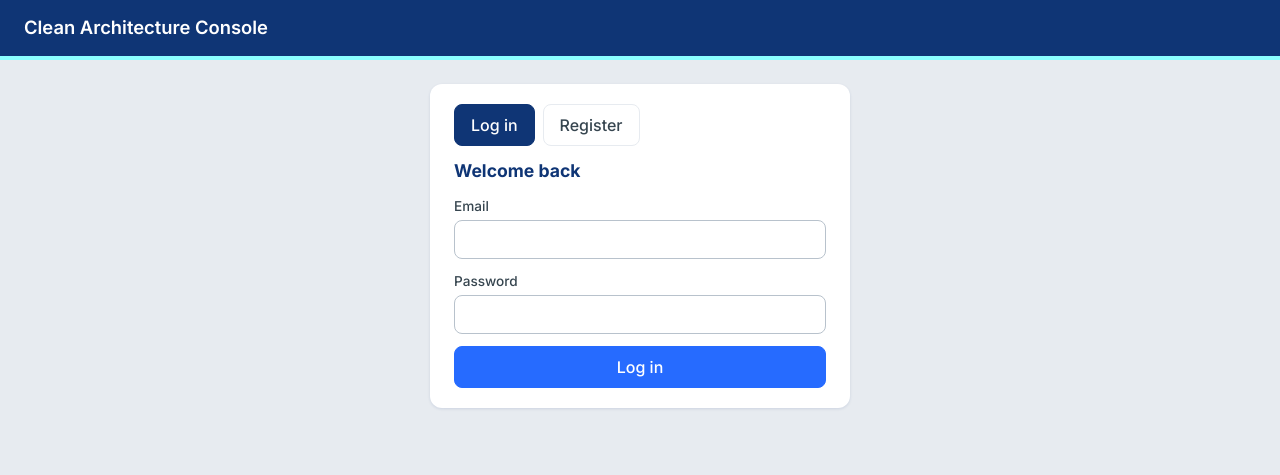
login errors › mc02 wrong password shows the API error
Type "admin@example.com" into the field labelled "Email". click: (640, 240)
box: [454, 220, 826, 259]
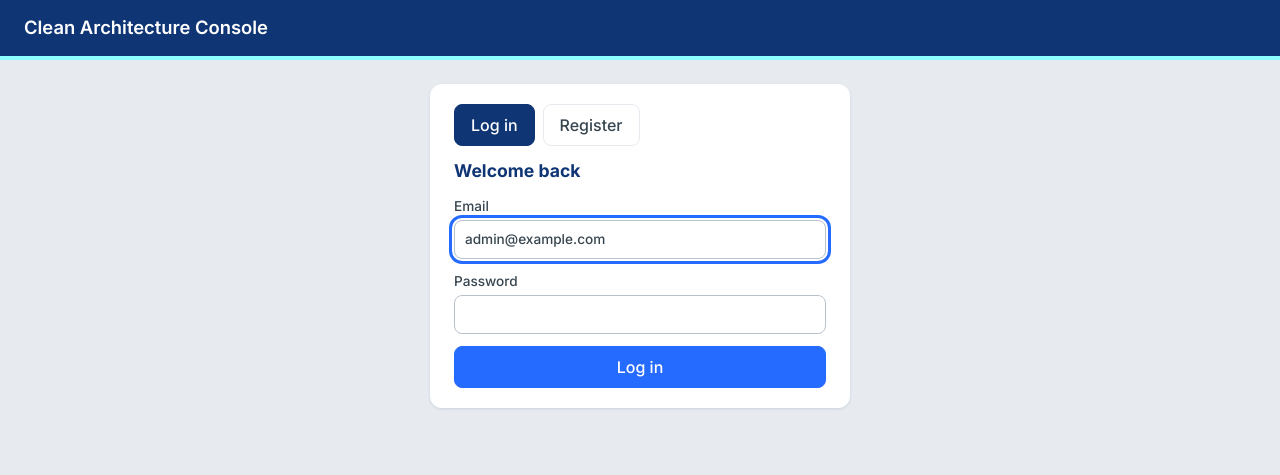
Type "nope" into the password field labelled "Password". click: (640, 314)
box: [454, 295, 826, 334]
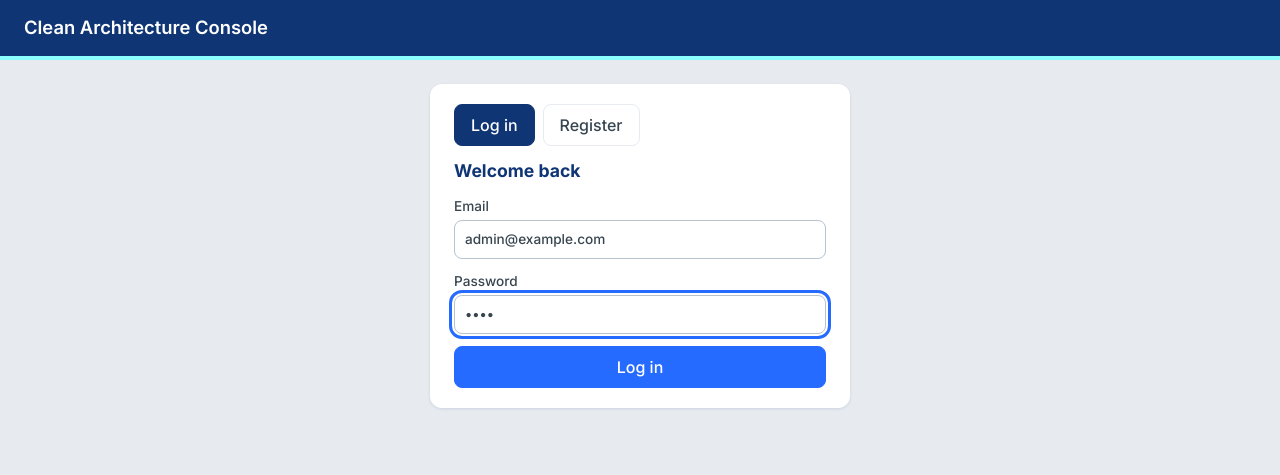
Click the button "Log in". click: click(640, 367)
box: [454, 346, 826, 388]
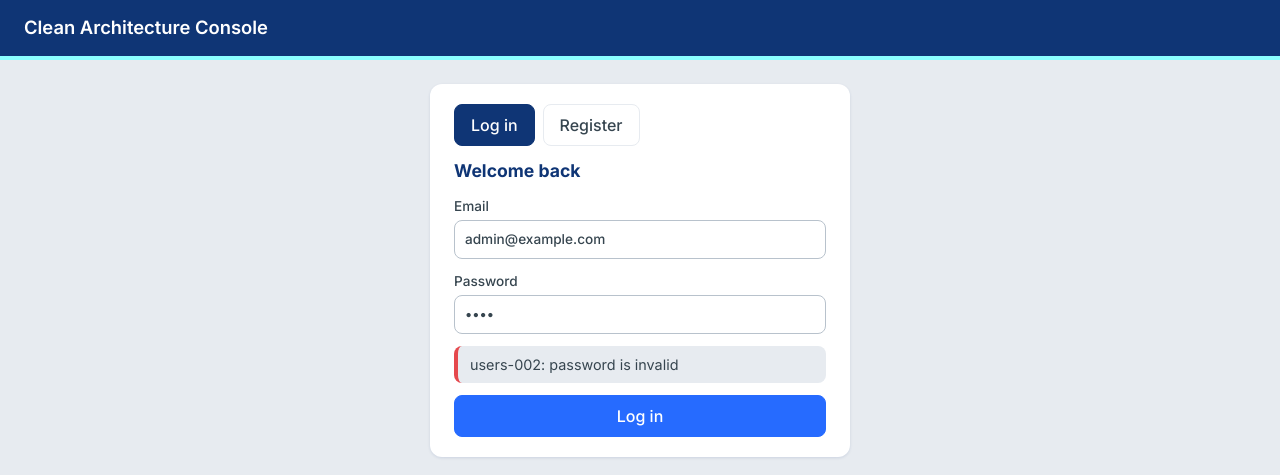
expect the message reads "users-002: password is invalid": met, box [470, 356, 678, 373]
